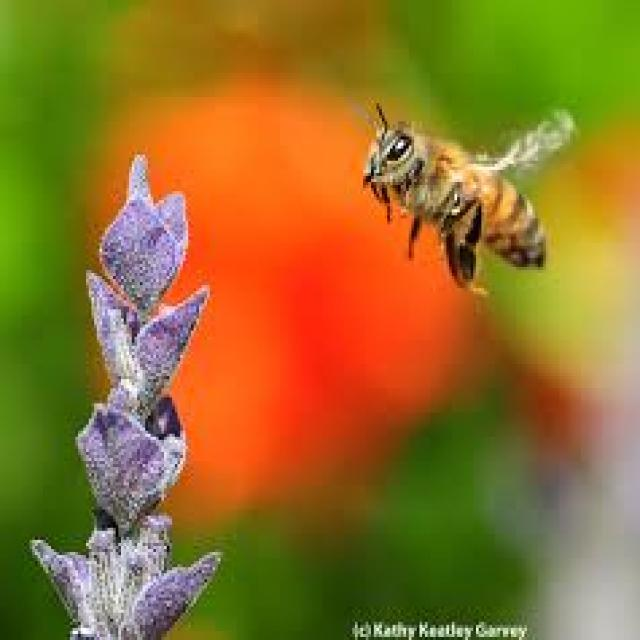Bees: (360, 100, 576, 304)
